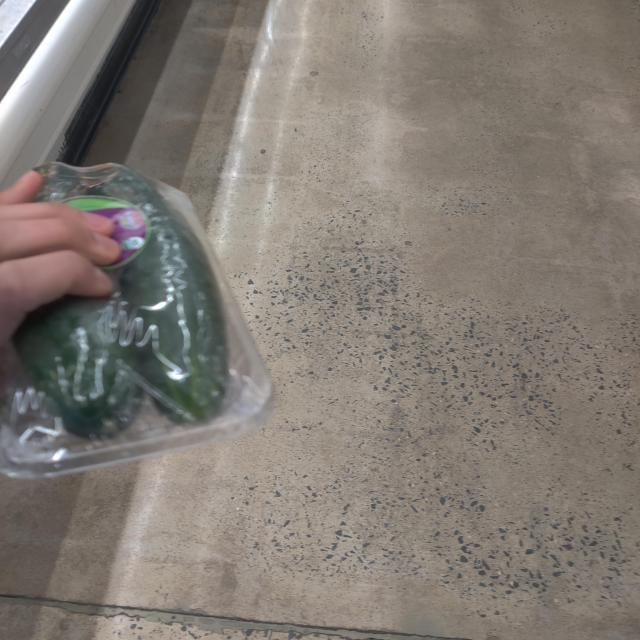Cucumber: (9, 139, 269, 461)
